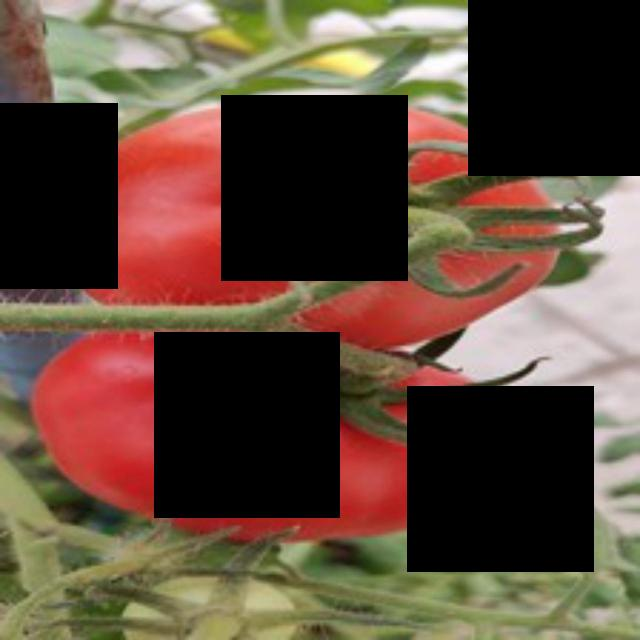tomato: (60, 105, 583, 355), (25, 321, 549, 544)
